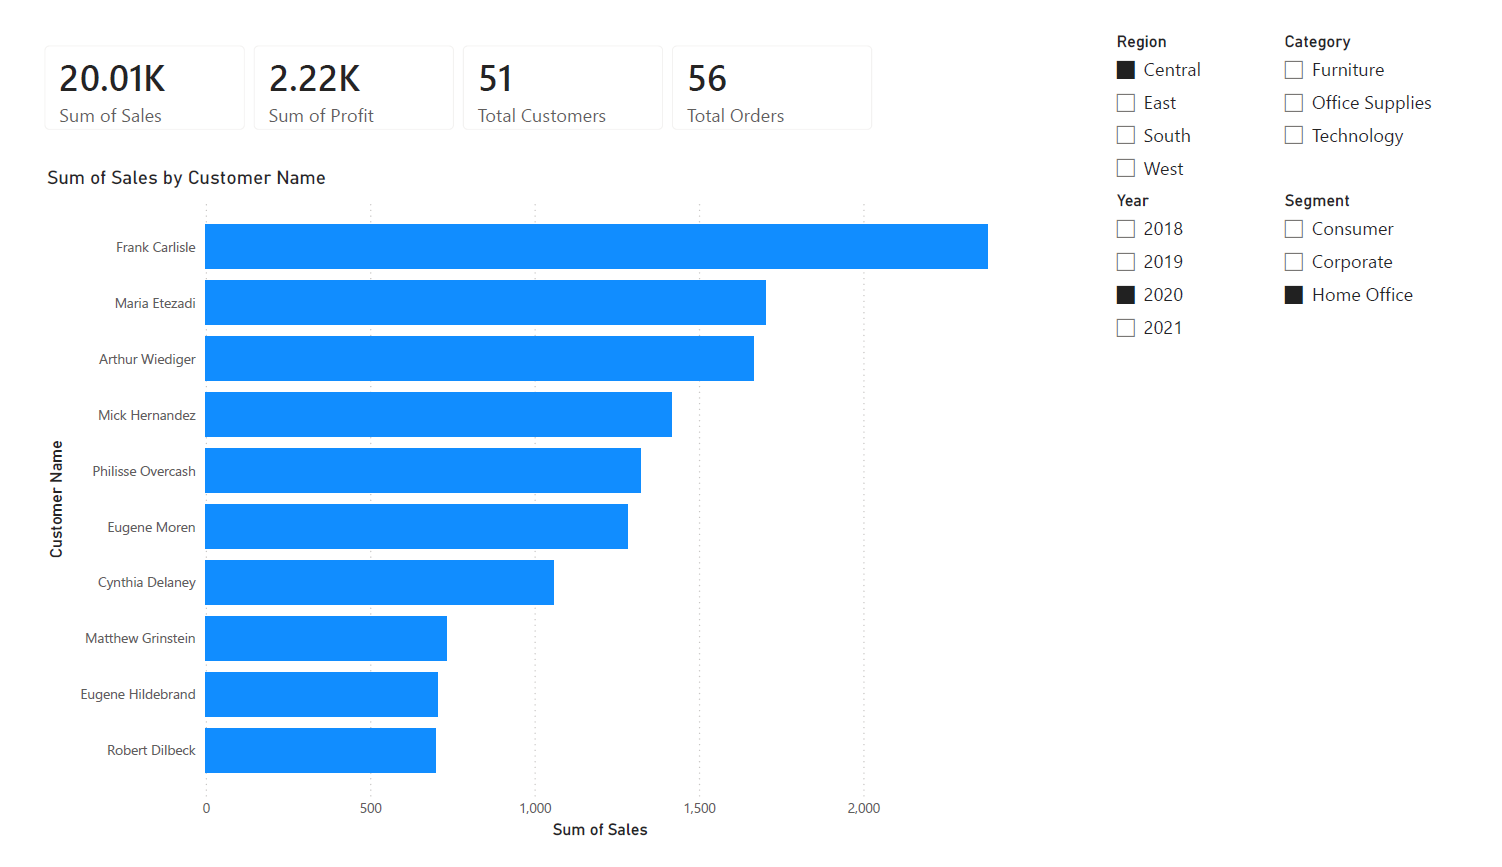

The page's visual inventory and layout, read from the dashboard file:
{"tool":"powerbi","page":{"name":"Page 2","canvas":[1280,720],"ordinal":1},"visuals":[{"type":"clusteredBarChart","fields":{"Category":["cleaned_superstore.Customer Name"],"Y":["Sum(cleaned_superstore.Sales)"]},"box":[13.8,122.5,858.8,597.5],"z":0},{"type":"slicer","fields":{"Values":["cleaned_superstore.Segment"]},"box":[1094.7,140,135,145],"z":1000},{"type":"slicer","fields":{"Values":["cleaned_superstore.Region"]},"box":[947.2,0,147.5,152.5],"z":2000},{"type":"slicer","fields":{"Values":["cleaned_superstore.Category"]},"box":[1094.7,0,161.2,115],"z":3000},{"type":"slicer","fields":{"Values":["cleaned_superstore.Year"]},"box":[947.2,140,147.5,145],"z":4000},{"type":"cardVisual","fields":{"Data":["Sum(cleaned_superstore.Sales)","Sum(cleaned_superstore.Profit)","Measure Table.Total Customers","Measure Table.Total Orders"]},"box":[0,0,762.5,107.5],"z":5000}]}

Visuals, with their boxes in screenshot pixels (x1, y1, x2, y2), scaled from the page's 1280x720 canvas onto the 1502x867 screenshot:
clusteredBarChart - cleaned_superstore.Customer Name x Sum(cleaned_superstore.Sales): [16, 148, 1024, 866]
slicer - cleaned_superstore.Segment: [1285, 169, 1443, 343]
slicer - cleaned_superstore.Region: [1111, 0, 1285, 184]
slicer - cleaned_superstore.Category: [1285, 0, 1474, 138]
slicer - cleaned_superstore.Year: [1111, 169, 1285, 343]
cardVisual - Sum(cleaned_superstore.Sales) x Sum(cleaned_superstore.Profit): [0, 0, 895, 129]
